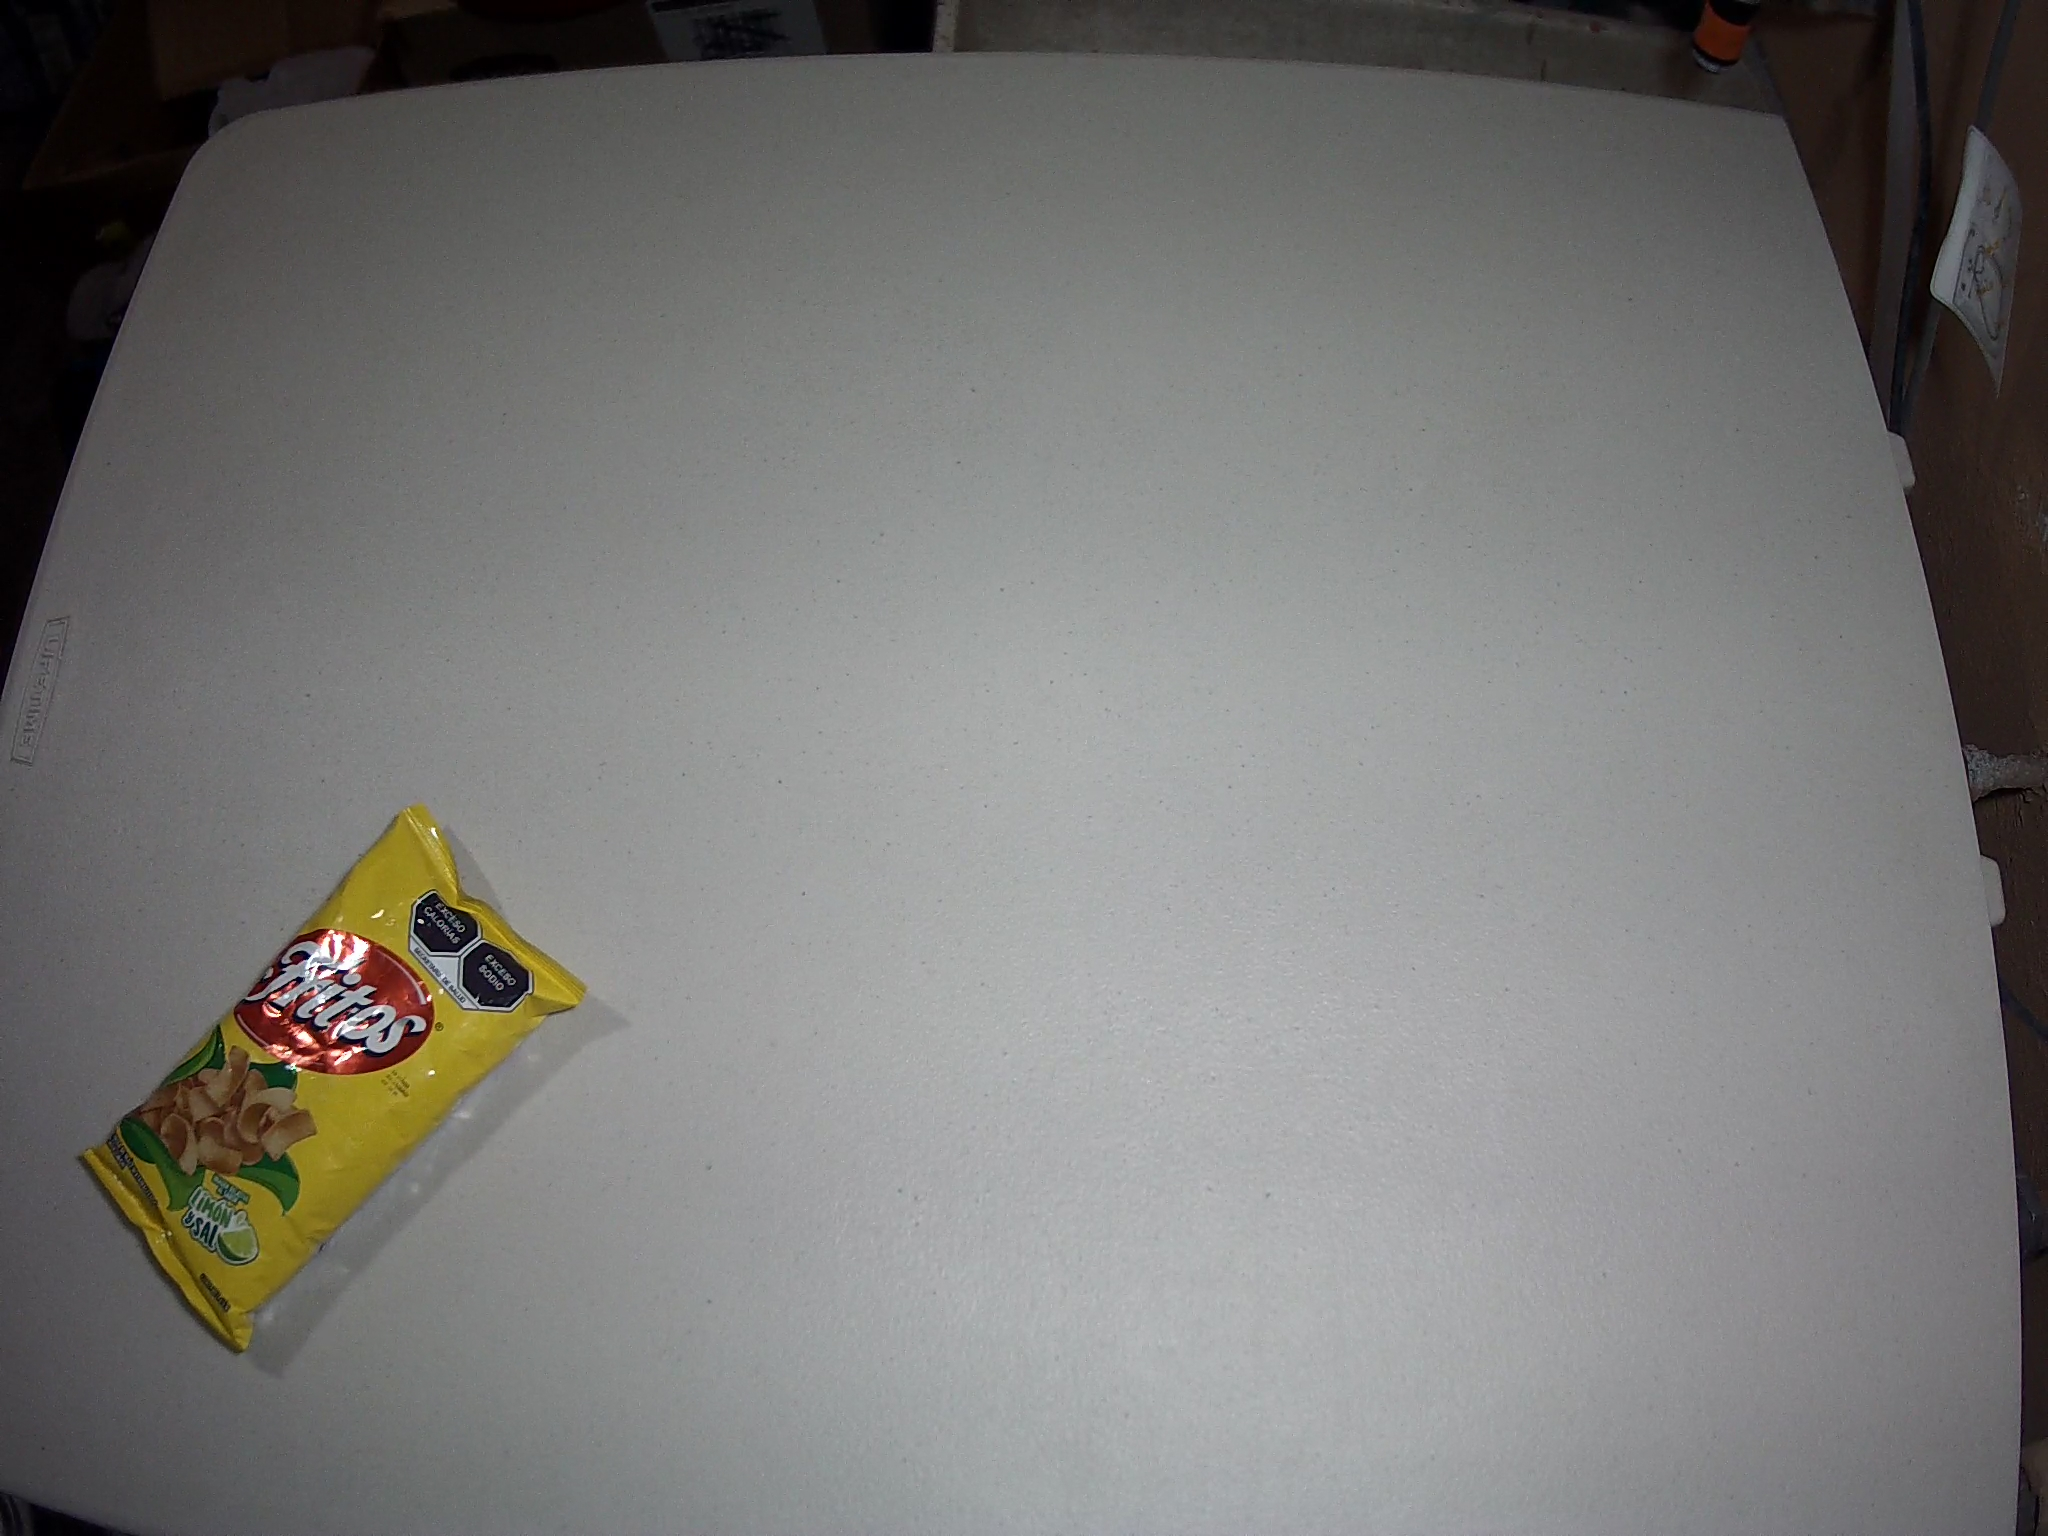FritosSalLimon_65_F: (81, 800, 589, 1357)
